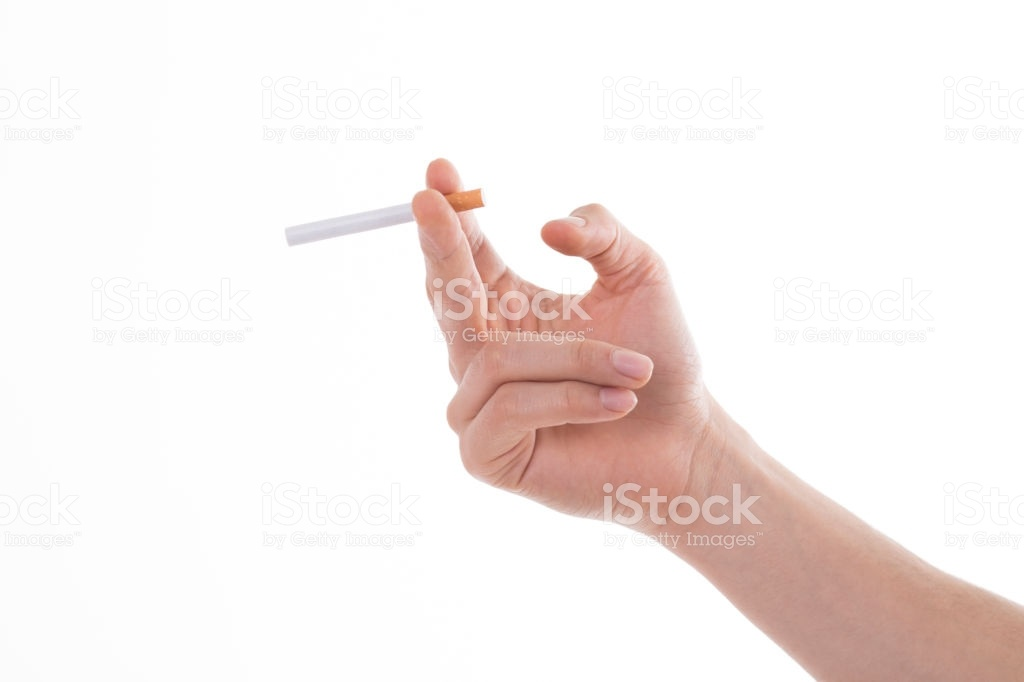sigaretta: (274, 182, 482, 242)
